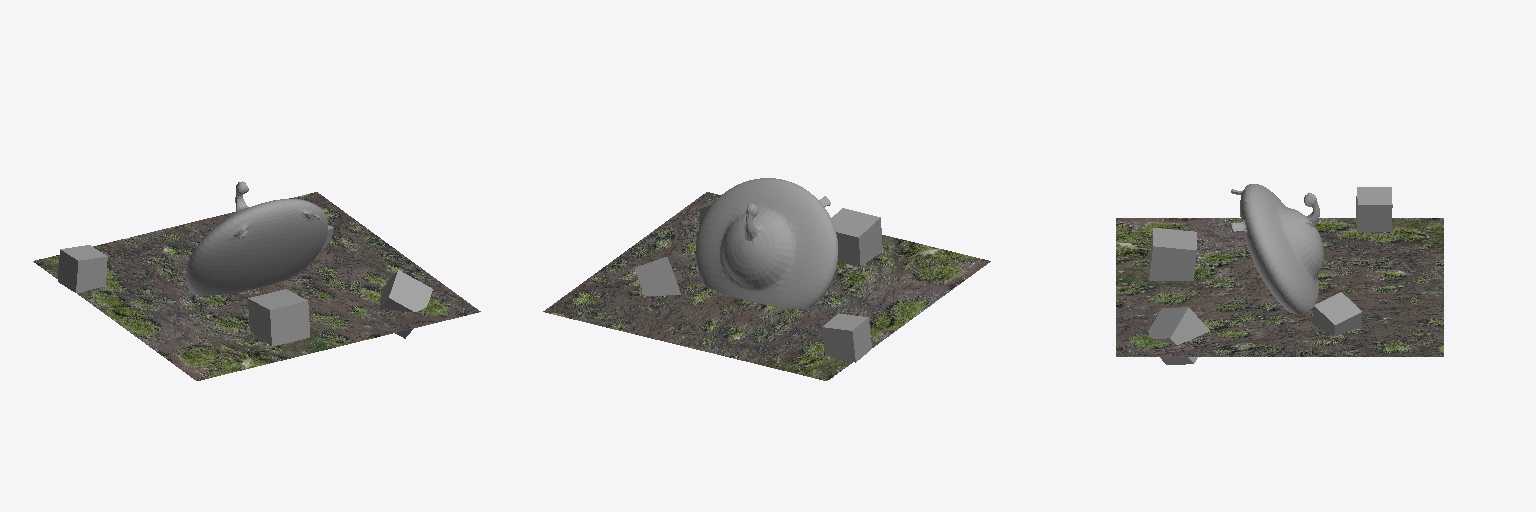
3 views of the same model, side by side, from view 1: azimuth 30°, elevation 25°; view 2: azimuth 150°, elevation 25°; view 3: azimuth 270°, elevation 25° (orthographic).
Parts seen in each view (by area): view 1: Plane, Cube, Cube.001, Cube.002, Cube.004; view 2: Plane, Cube, Cube.001, Cube.002, Cube.003; view 3: Plane, Cube, Cube.001, Cube.004, Cube.002, Cube.003.
Part boxes in pixels (bbox=[...]): Plane: bbox=[33, 192, 480, 380]; Cube: bbox=[186, 181, 327, 295]; Cube.001: bbox=[248, 289, 309, 346]; Cube.002: bbox=[58, 245, 107, 292]; Cube.004: bbox=[380, 270, 432, 338]; Plane: bbox=[543, 192, 990, 380]; Cube: bbox=[696, 178, 837, 308]; Cube.001: bbox=[831, 208, 882, 266]; Cube.002: bbox=[822, 313, 871, 362]; Cube.003: bbox=[635, 257, 680, 296]; Plane: bbox=[1116, 218, 1443, 356]; Cube: bbox=[1231, 184, 1323, 313]; Cube.001: bbox=[1149, 228, 1196, 280]; Cube.004: bbox=[1148, 307, 1209, 364]; Cube.002: bbox=[1356, 187, 1392, 231]; Cube.003: bbox=[1313, 292, 1362, 335].
Size of the model in its own units: 13.61 by 5.83 by 13.52.
4 materials, 1 textured.